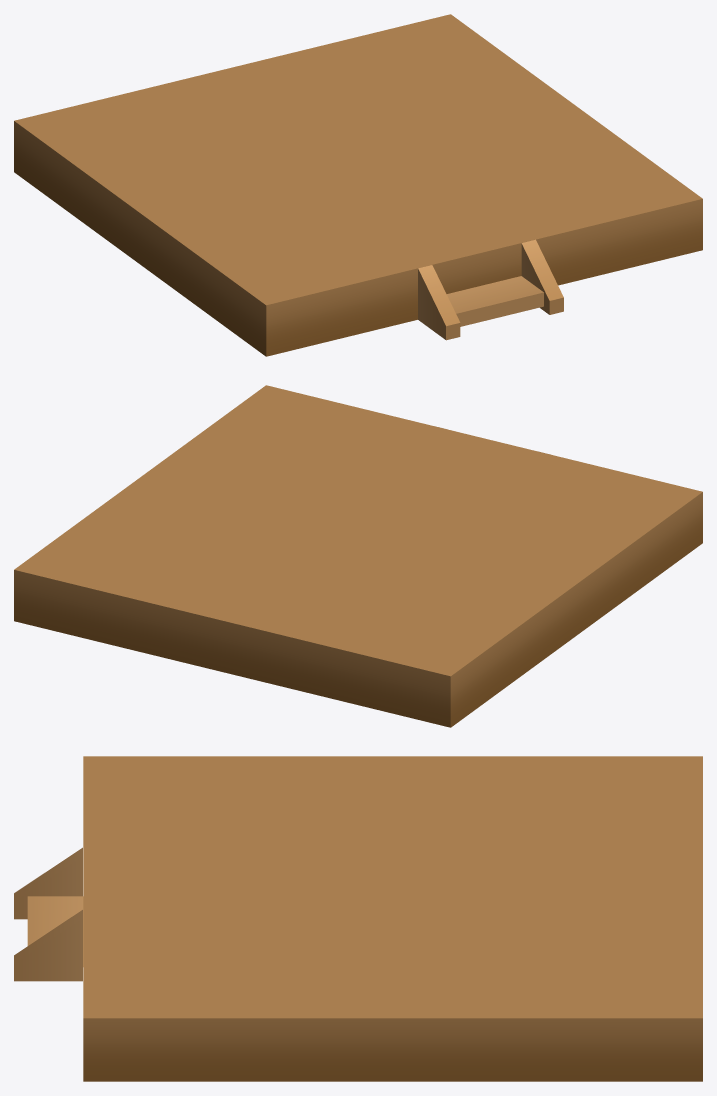
File: House_3x3_Base.fbx
The picture shows the model from 3 angles, top to bottom: view 1: azimuth 30°, elevation 25°; view 2: azimuth 150°, elevation 25°; view 3: azimuth 270°, elevation 25°; orthographic projection. The views are drawn at different scales.
Visible parts, largest first — view 1: House_3x3_Base; view 2: House_3x3_Base; view 3: House_3x3_Base.
Part boxes in pixels (bbox=[...]): House_3x3_Base: bbox=[14, 14, 702, 356]; House_3x3_Base: bbox=[14, 385, 702, 727]; House_3x3_Base: bbox=[14, 756, 702, 1081].
Bounding box in the file's own units: 4 × 0.45 × 4.45.
Materials: 1 (1 with a texture image).
